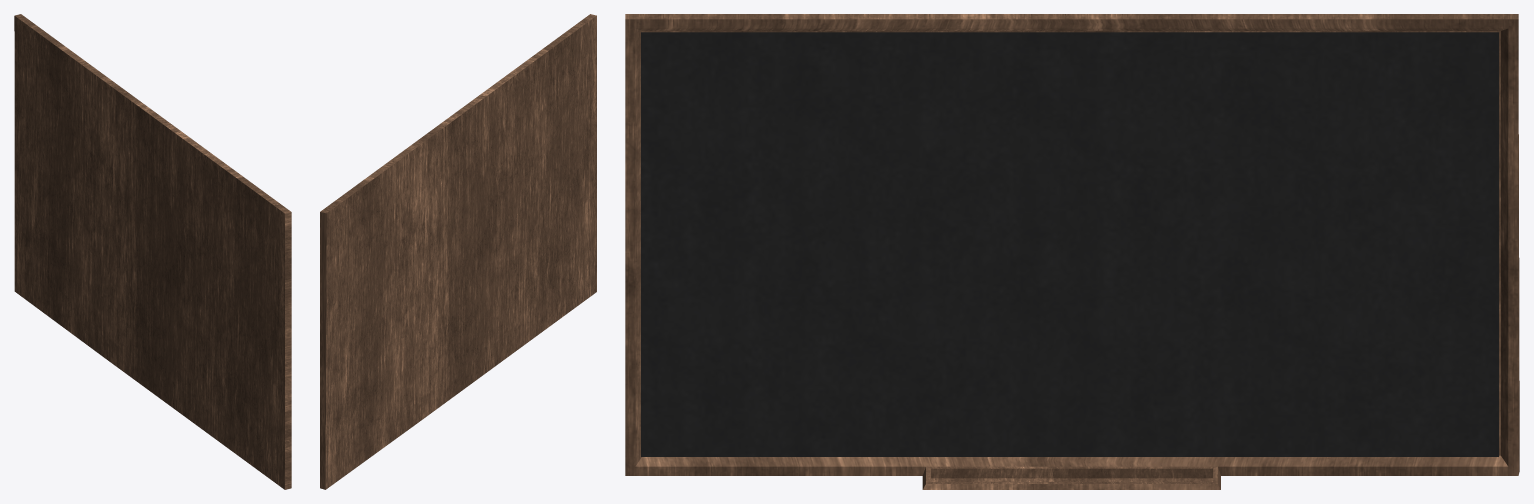
The model's file is Blackboard.fbx.
The picture shows the model from 3 angles, left to right: view 1: azimuth 30°, elevation 25°; view 2: azimuth 150°, elevation 25°; view 3: azimuth 270°, elevation 25°; orthographic projection. The views are drawn at different scales.
Parts seen in each view (by area): view 1: Blackboard_Frame; view 2: Blackboard_Frame; view 3: Bookshelf_Area_Blackboard_Face, Blackboard_Frame.
Boxes of the visible parts, box(x1,y1,x2,y2) form: Blackboard_Frame: box(14, 14, 291, 489); Blackboard_Frame: box(320, 14, 596, 489); Bookshelf_Area_Blackboard_Face: box(641, 32, 1498, 456); Blackboard_Frame: box(625, 14, 1519, 489).
Bounding box in the file's own units: 2.92 × 31.96 × 56.73.
